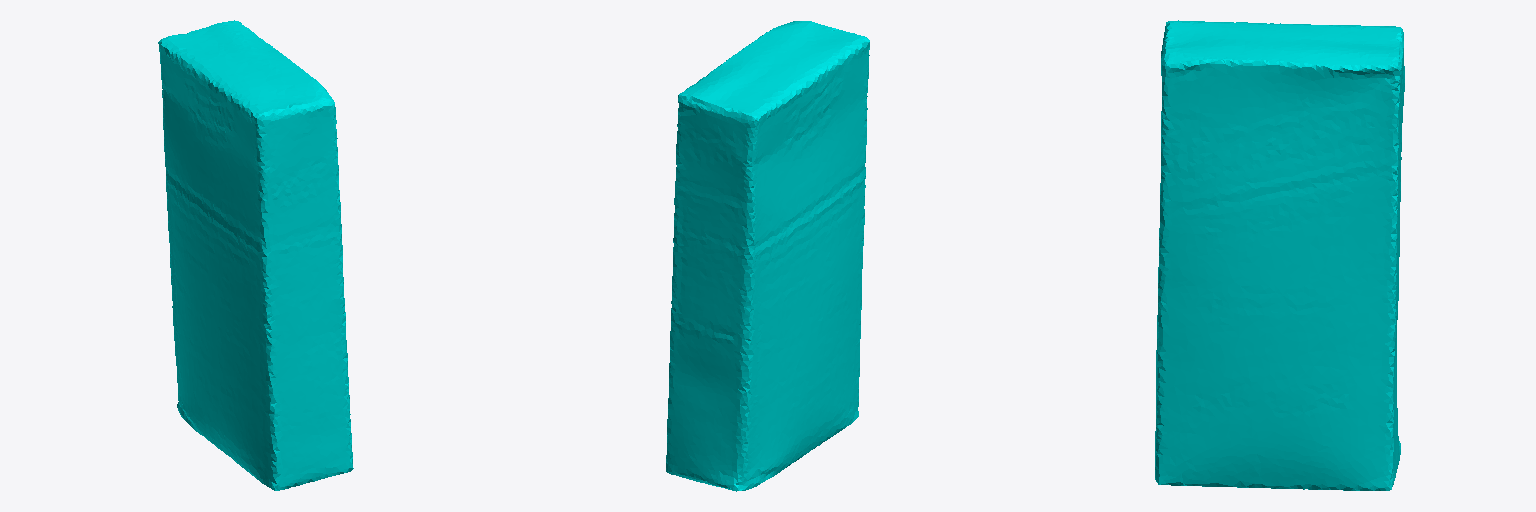
URDF robot description (obj_000003):
<?xml version="1.0" ?>
<robot name="obj_000003">
   <link name="base_link">
      <visual>
         <geometry>
            <mesh filename="package://agimus_demo_05_pick_and_place/urdf/ycbv/obj_03.obj" scale="1.0 1.0 1.0"/>
         </geometry>
         <material name="mat_part0">
            <color rgba="0.0 0.9 0.9 1.0"/>
         </material>
      </visual>
      <collision>
         <geometry>
            <mesh filename="package://agimus_demo_05_pick_and_place/urdf/ycbv/obj_03.obj" scale="0.001 0.001 0.001"/>
         </geometry>
      </collision>
      <inertial>
         <origin rpy="0 0 0" xyz="0.0 0.0 0.0"/>
         <mass value="0.1"/>
         <inertia ixx="1" ixy="0" ixz="0" iyy="1" iyz="0" izz="1"/>
      </inertial>
   </link>
</robot>

--- What the picture shows (computed from the rendered views, not written in the file) ---
The picture shows the robot from 3 angles, left to right: view 1: azimuth 30°, elevation 25°; view 2: azimuth 150°, elevation 25°; view 3: azimuth 270°, elevation 25°; orthographic projection.
Robot: obj_000003 — 1 links, 0 joints (none); root link base_link; default pose: every joint at zero.
Visible links, largest first — view 1: base_link; view 2: base_link; view 3: base_link.
Boxes of the visible links, x1,y1,x2,y2 form: base_link: (158,20,353,490); base_link: (666,21,869,491); base_link: (1155,20,1404,490).
Size in the robot's own frame: 0.0495 by 0.094 by 0.176 metres.
Meshes: 1 distinct files referenced, 1 mesh visuals loaded (1 OBJ).
